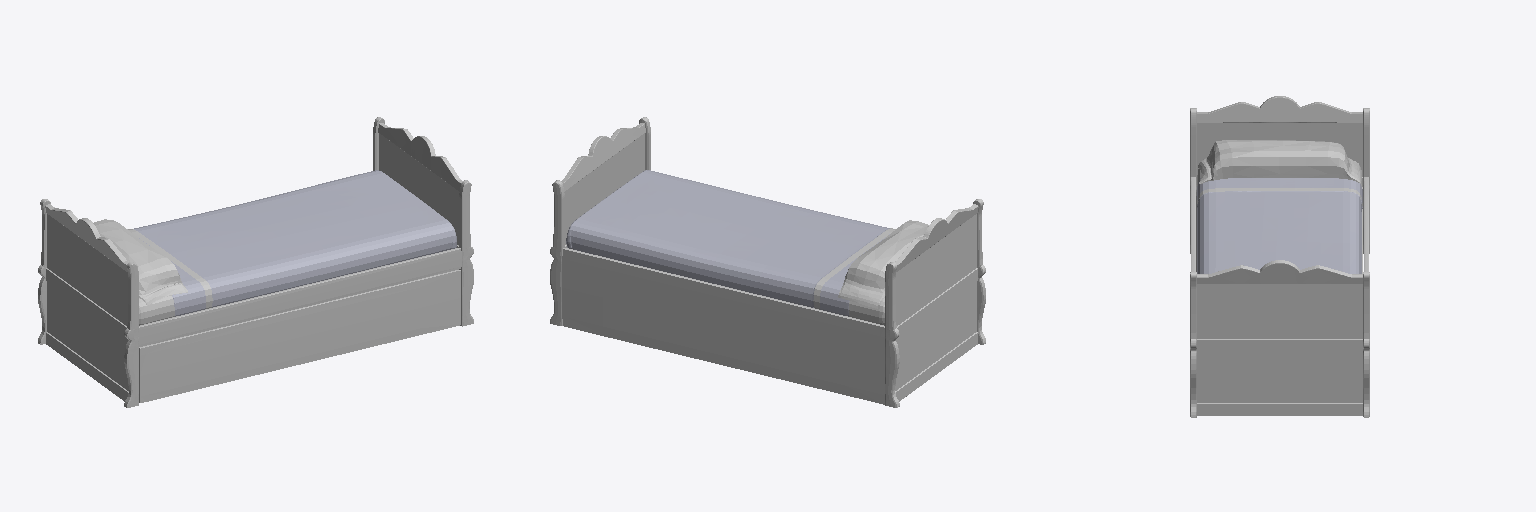
File: children_bed.obj
The picture shows the model from 3 angles: view 1: azimuth 30°, elevation 25°; view 2: azimuth 150°, elevation 25°; view 3: azimuth 270°, elevation 25°; orthographic projection.
Visible parts, largest first — view 1: Cube, Cube.001, Cube.002_Cube.003; view 2: Cube, Cube.001, Cube.002_Cube.003; view 3: Cube, Cube.001, Cube.002_Cube.003.
Part boxes in pixels (left/top/right/bottom): Cube: left=38, top=117, right=473, bottom=407; Cube.001: left=128, top=170, right=456, bottom=325; Cube.002_Cube.003: left=93, top=219, right=187, bottom=306; Cube: left=550, top=117, right=985, bottom=407; Cube.001: left=566, top=170, right=895, bottom=325; Cube.002_Cube.003: left=838, top=220, right=928, bottom=308; Cube: left=1190, top=96, right=1369, bottom=417; Cube.001: left=1197, top=161, right=1362, bottom=273; Cube.002_Cube.003: left=1198, top=140, right=1361, bottom=185.
Bounding box in the file's own units: 20.53 × 8.74 × 9.18.